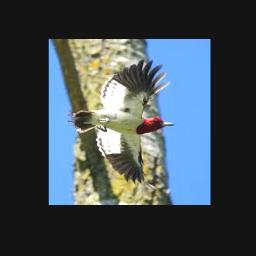Woodpecker: (68, 60, 174, 189)
